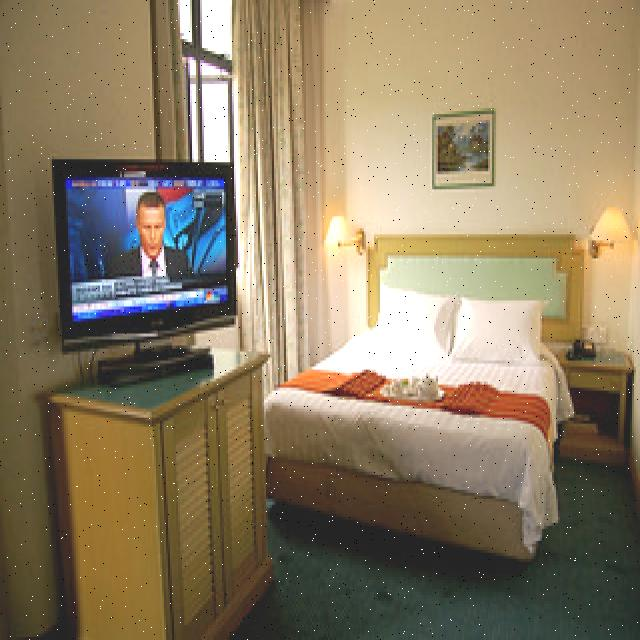bed: (285, 233, 589, 522)
